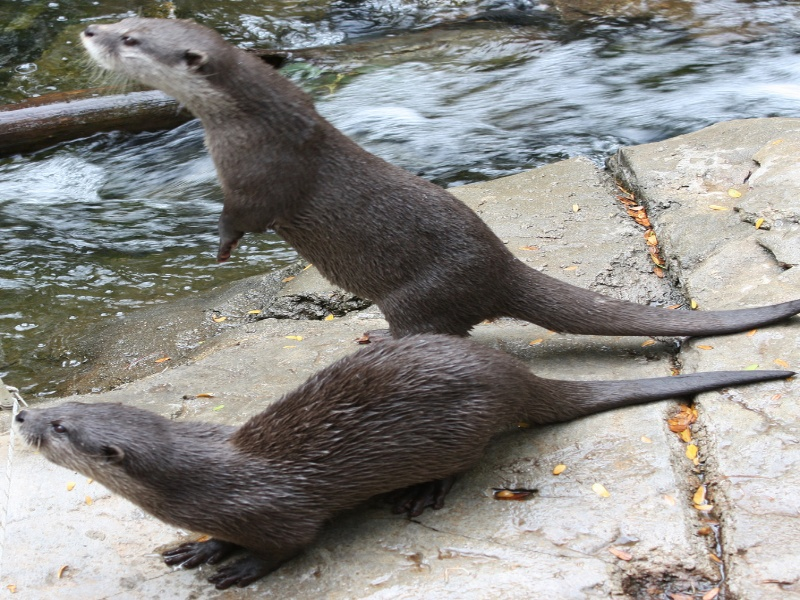minkish: (78, 12, 799, 348), (10, 330, 798, 591)
